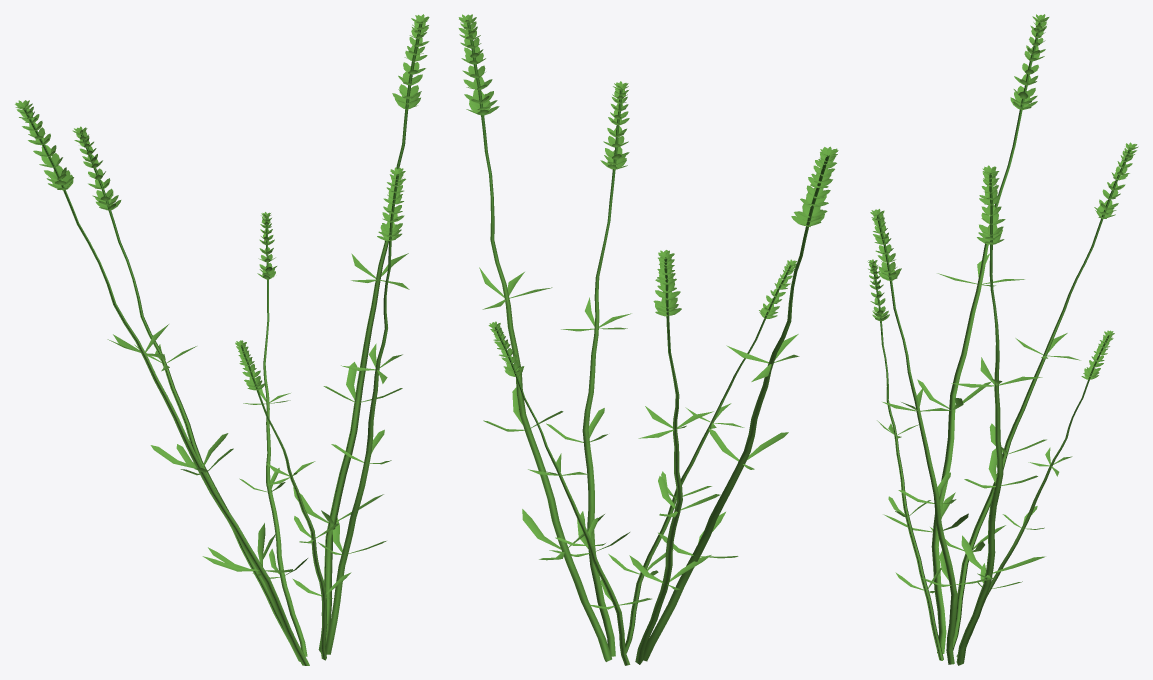
The model's file is NS_Lavande.glb.
3 views of the same model, side by side, from view 1: azimuth 30°, elevation 25°; view 2: azimuth 150°, elevation 25°; view 3: azimuth 270°, elevation 25° (orthographic). The views are drawn at different scales.
Visible parts, largest first — view 1: S_Lavande; view 2: S_Lavande; view 3: S_Lavande.
Part boxes in pixels (x1=…): S_Lavande: x1=15, y1=14, x2=429, y2=665; S_Lavande: x1=458, y1=14, x2=838, y2=665; S_Lavande: x1=867, y1=14, x2=1138, y2=665.
Size of the model in its own units: 0.3352 by 0.4928 by 0.2211.
1 material, 1 textured.
